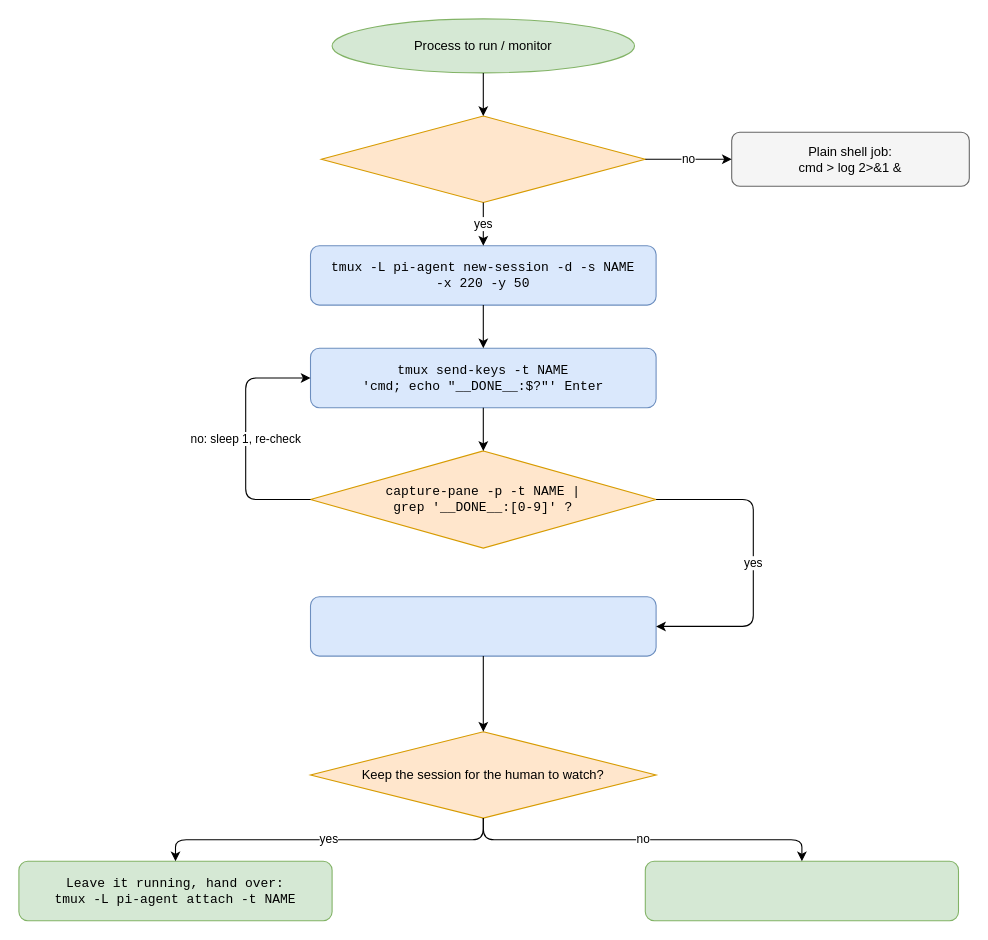
The diagram is 988 pixels wide and 940 high, and some of its shapes have lost their labels. Each missing label, with the box of its shape:
tmux -L pi-agent kill-session -t NAME: (644, 860, 959, 921)
tmux capture-pane -p -S -2000 -t NAME (full output + exit code): (309, 596, 656, 656)
TTY, interactivity, or must outlive the terminal?: (320, 115, 645, 202)
